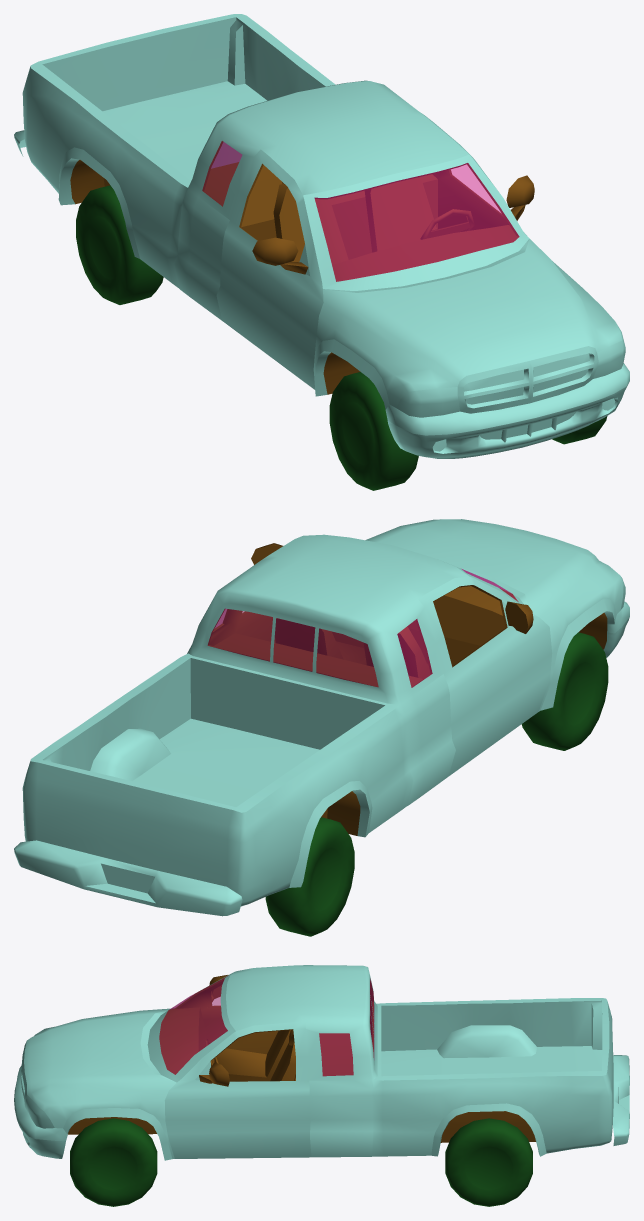
The model's file is Dodge_dacota2.fbx.
The picture shows the model from 3 angles, top to bottom: view 1: azimuth 30°, elevation 25°; view 2: azimuth 150°, elevation 25°; view 3: azimuth 270°, elevation 25°; orthographic projection. The views are drawn at different scales.
Visible parts, largest first — view 1: dodge_base001, dodge_salon001, doodge_glass001, wheel_doodge003, wheel_doodge002; view 2: dodge_base001, dodge_salon001, doodge_glass001, wheel_doodge002, wheel_doodge003; view 3: dodge_base001, dodge_salon001, wheel_doodge, wheel_doodge001, doodge_glass001.
Part boxes in pixels (x1,y1,x2,y2): dodge_base001: (14,14,629,458); dodge_salon001: (70,141,534,394); doodge_glass001: (202,141,519,281); wheel_doodge003: (329,372,418,490); wheel_doodge002: (76,185,163,304); dodge_base001: (14,519,629,916); dodge_salon001: (208,543,607,835); doodge_glass001: (208,568,518,687); wheel_doodge002: (265,817,354,936); wheel_doodge003: (521,632,608,750); dodge_base001: (14,965,629,1160); dodge_salon001: (68,975,535,1142); wheel_doodge: (70,1118,157,1206); wheel_doodge001: (445,1118,532,1206); doodge_glass001: (159,976,374,1076).
Size of the model in its own units: 202 by 525 by 170.
